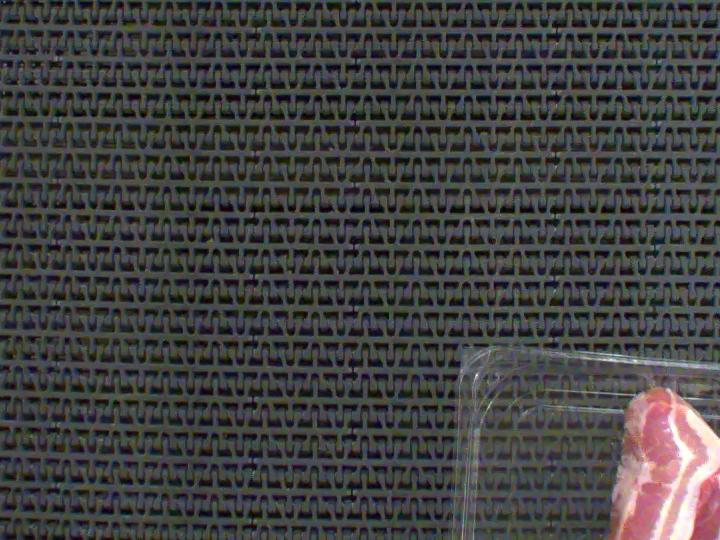packaging-error: (637, 370, 681, 400)
